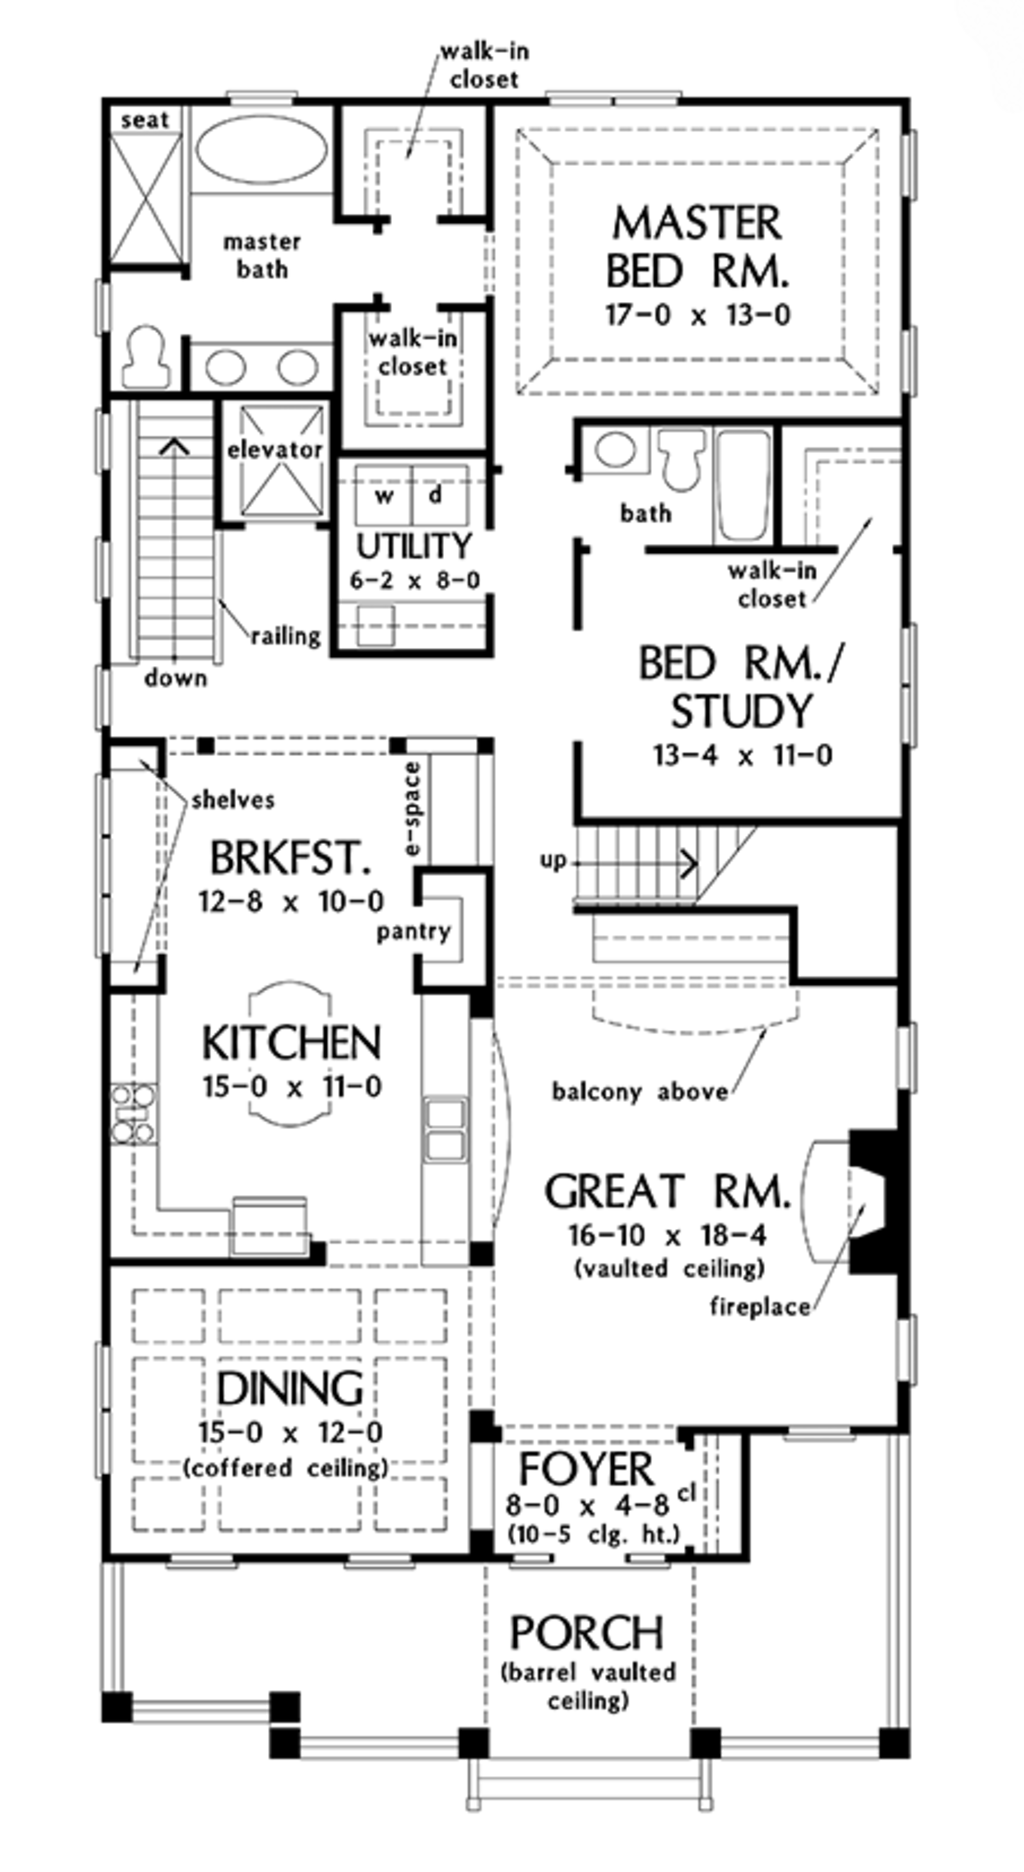kitchen_bar: (108, 996, 222, 1257)
large_sink: (116, 292, 169, 402), (658, 429, 705, 502)
small_sink: (586, 410, 646, 484), (190, 334, 252, 390), (272, 340, 337, 393)
stairs: (119, 402, 222, 669), (562, 824, 763, 919)
tub: (199, 103, 343, 199), (713, 419, 778, 552)
twin_sink: (419, 1078, 478, 1187)
window: (893, 613, 924, 758), (87, 782, 113, 952), (90, 1343, 119, 1488), (557, 93, 699, 110)
